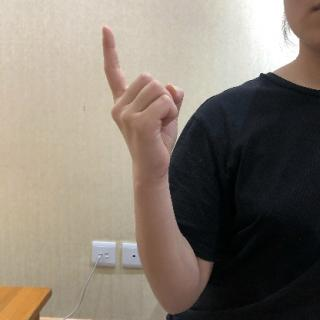RAA: (89, 23, 199, 198)
